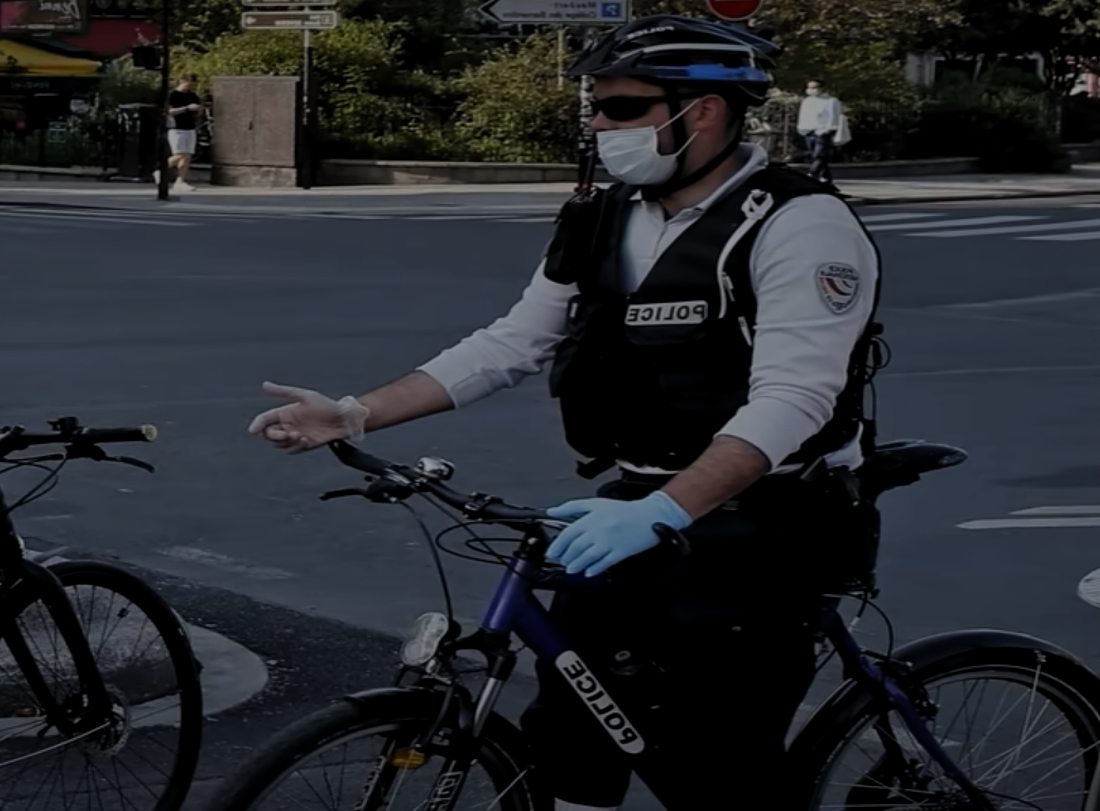mask_weared_incorrect: (580, 22, 762, 196)
